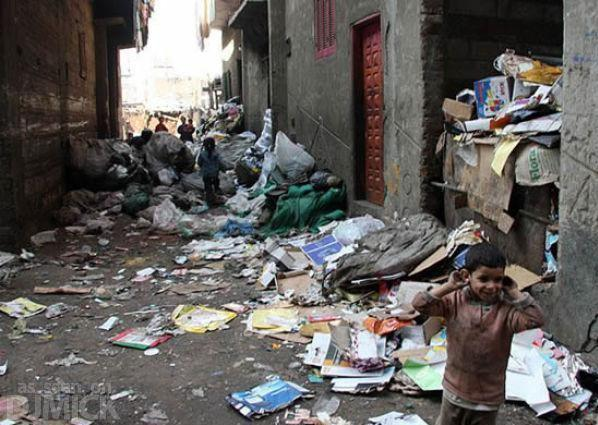Garbage: (226, 214, 402, 338), (445, 48, 564, 211), (248, 143, 347, 257), (78, 134, 192, 209), (164, 212, 254, 291), (520, 342, 598, 425), (228, 374, 316, 425)
